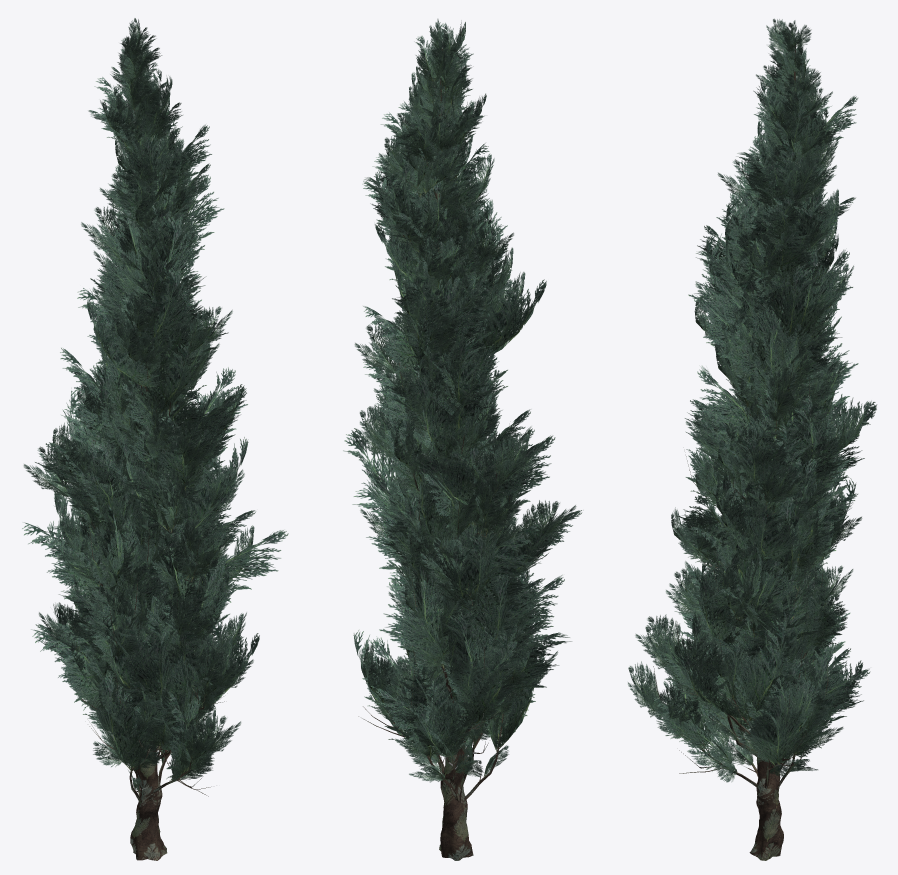
Rendered from cypress_tree.glb.
The picture shows the model from 3 angles, left to right: view 1: azimuth 30°, elevation 25°; view 2: azimuth 150°, elevation 25°; view 3: azimuth 270°, elevation 25°; orthographic projection. The views are drawn at different scales.
Visible parts, largest first — view 1: Cypress_V2_test; view 2: Cypress_V2_test; view 3: Cypress_V2_test.
Boxes of the visible parts, bbox=[...] form: Cypress_V2_test: bbox=[22, 18, 288, 860]; Cypress_V2_test: bbox=[343, 19, 581, 860]; Cypress_V2_test: bbox=[628, 18, 877, 860].
Bounding box in the file's own units: 1.66 × 5.31 × 1.49.
4 materials, 2 textured.
